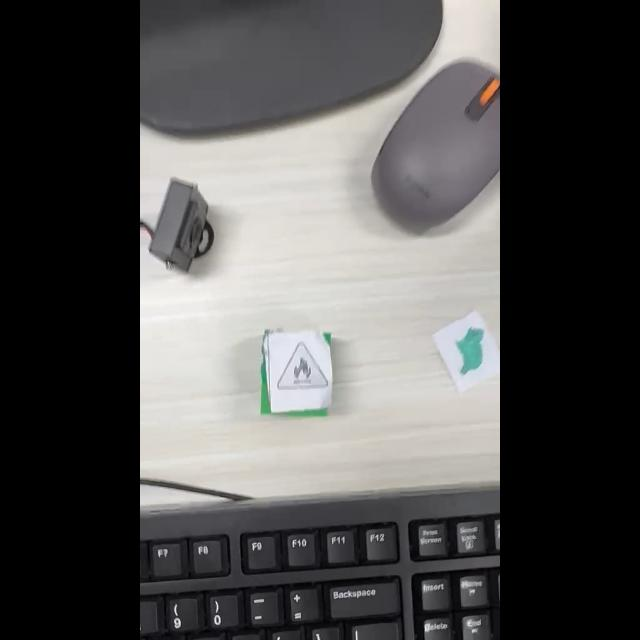Fire: (278, 342, 328, 389)
